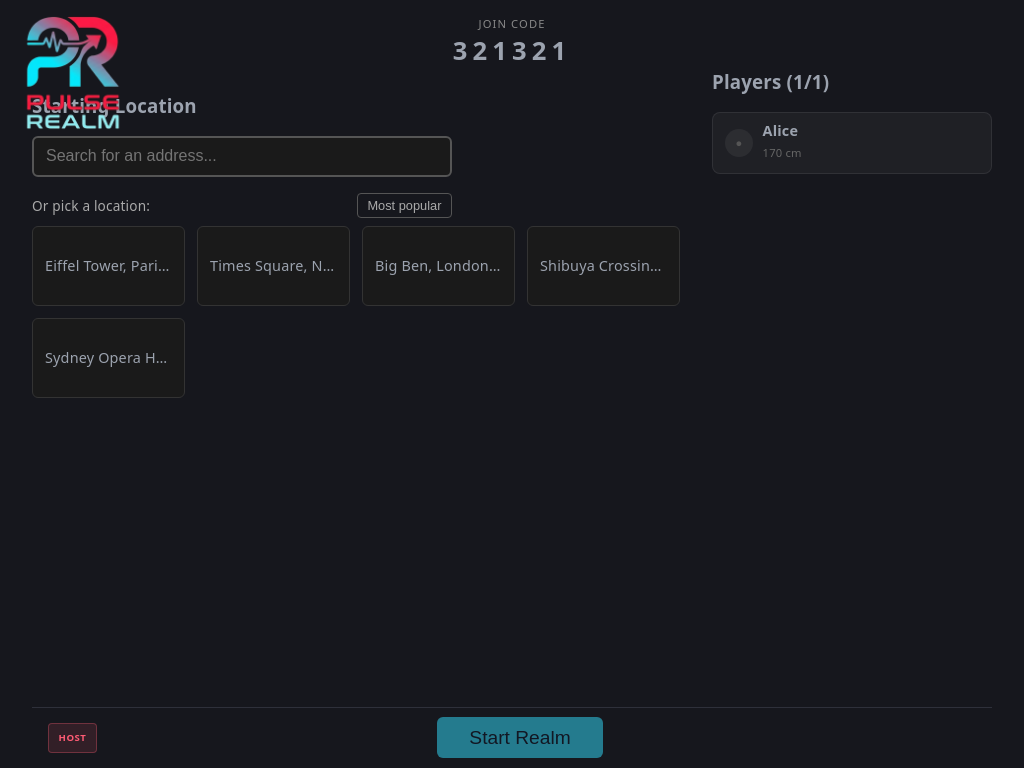
Scenario: StreetViewLobby (maps loaded) › selecting a curated location › can select a curated location
The width and height of the screenshot is (1024, 768).
Click the text "Eiffel Tower, Paris, France" at (108, 266), box [45,254,172,278]
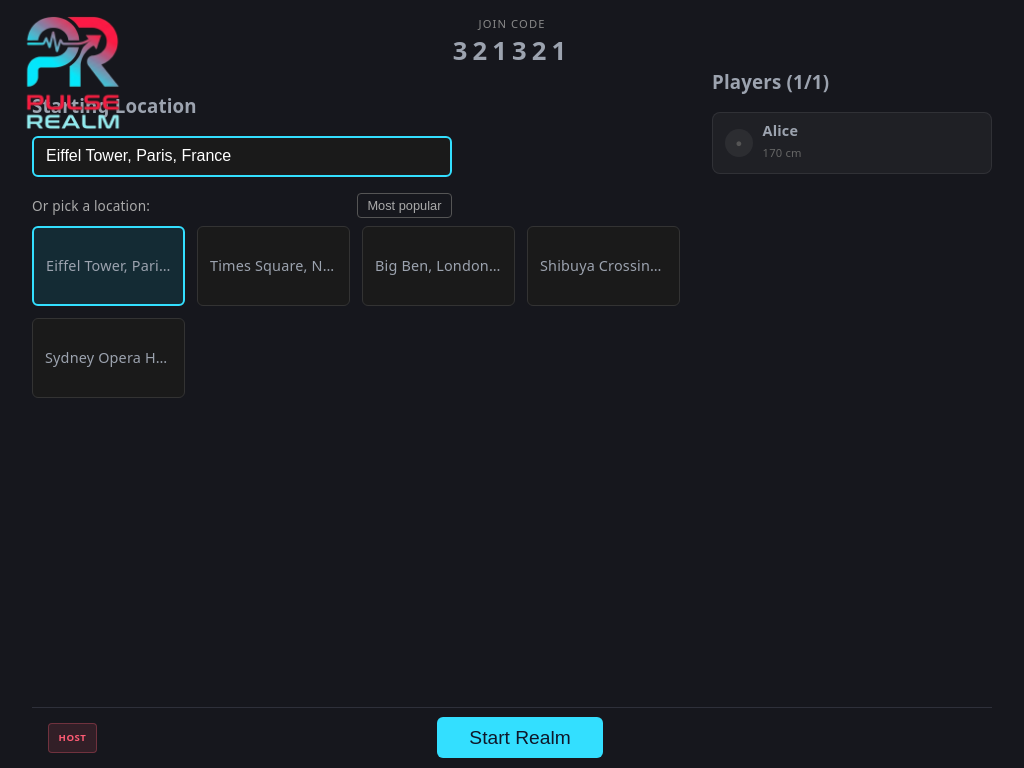
Check: the field with placeholder "Search for an address..." holds "Eiffel Tower, Paris, France", box [32,136,452,177]
